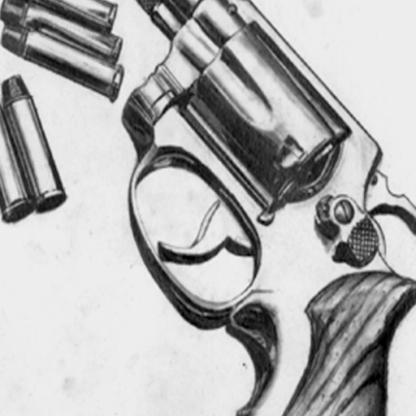gun: (103, 0, 415, 415)
